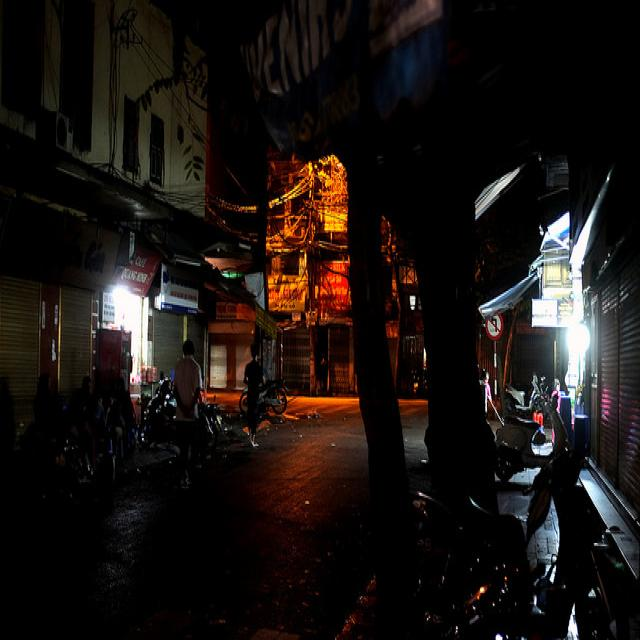Motorbike: (409, 422, 640, 640), (508, 371, 600, 491), (141, 375, 243, 477), (244, 386, 298, 415)
